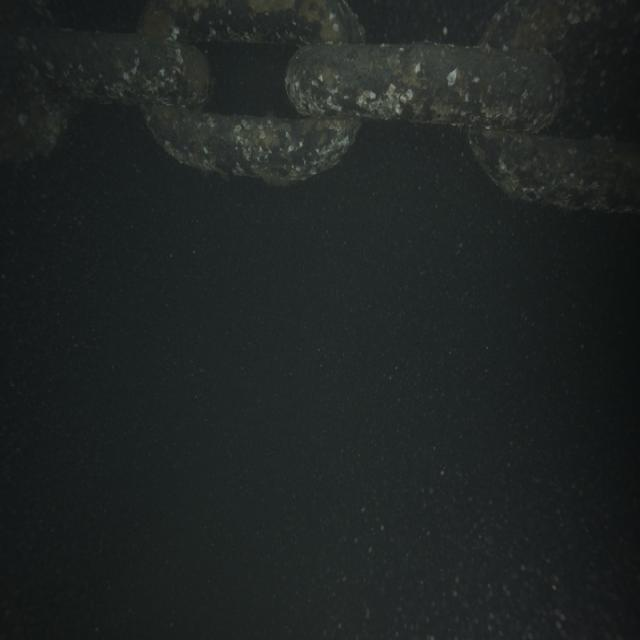ChainLink: (286, 43, 564, 132), (144, 106, 360, 182), (469, 126, 640, 211), (16, 31, 209, 105), (139, 0, 364, 45), (0, 91, 79, 162), (480, 0, 589, 50), (0, 0, 55, 31)
